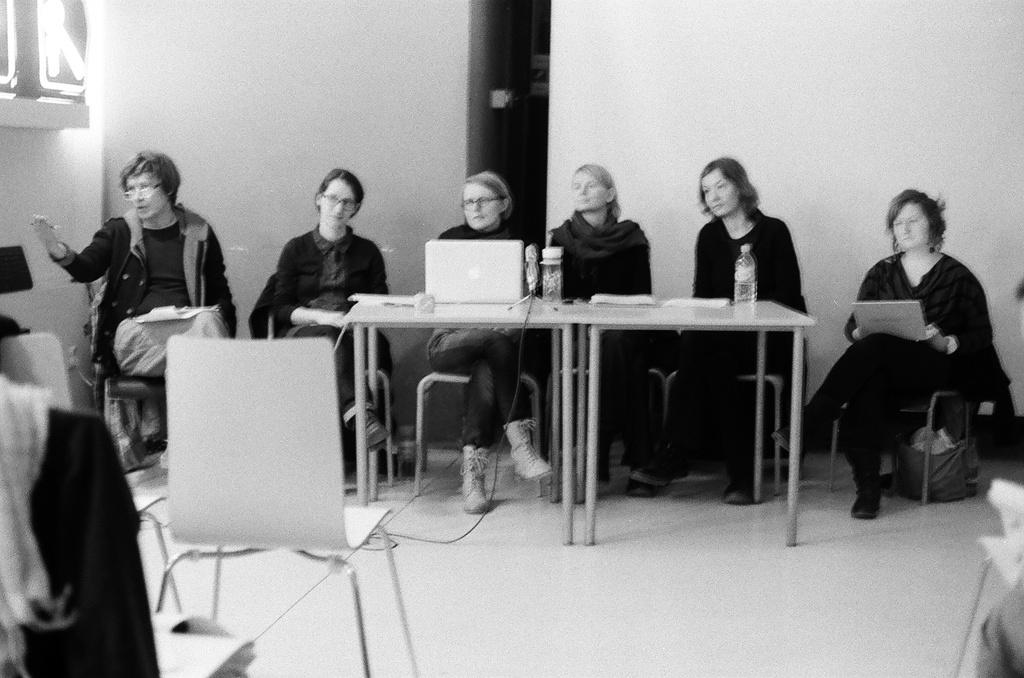Chair: (128, 343, 367, 588), (820, 381, 974, 507), (412, 369, 542, 495), (663, 369, 786, 496), (0, 327, 75, 410)
